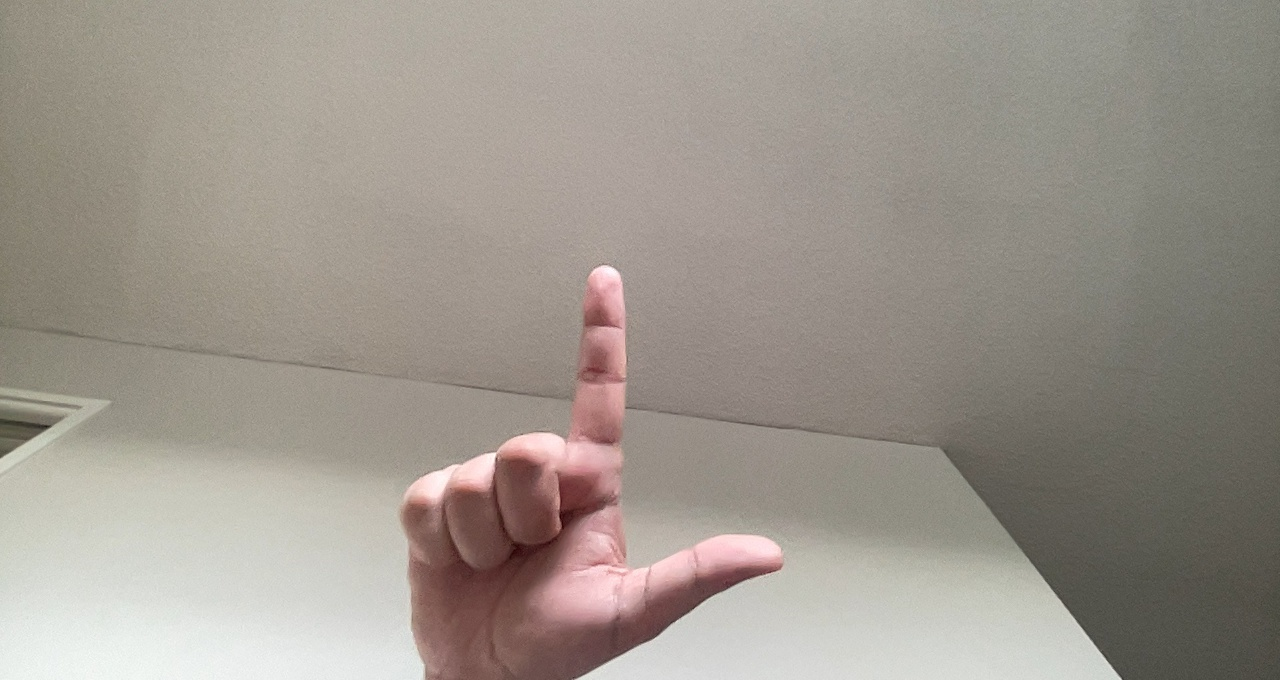L: (381, 254, 797, 677)
